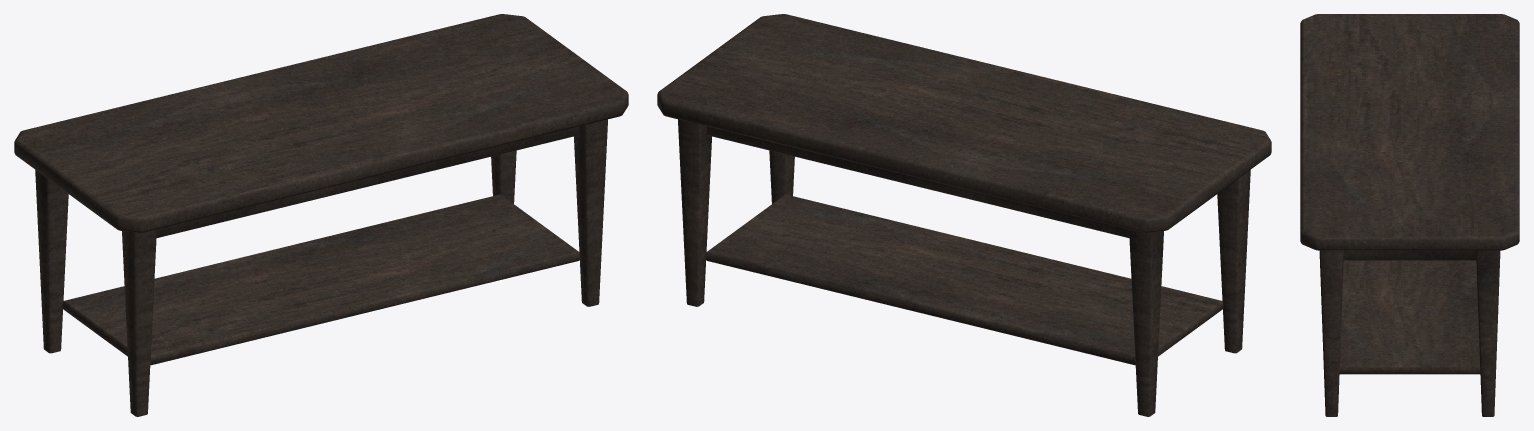
File: table_small_1.glb
3 views of the same model, side by side, from view 1: azimuth 30°, elevation 25°; view 2: azimuth 150°, elevation 25°; view 3: azimuth 270°, elevation 25° (orthographic). The views are drawn at different scales.
Visible parts, largest first — view 1: table_small_1; view 2: table_small_1; view 3: table_small_1.
Boxes of the visible parts, x1,y1,x2,y2 form: table_small_1: (14,14,628,416); table_small_1: (657,14,1271,416); table_small_1: (1300,14,1519,416).
Size of the model in its own units: 1.7 by 0.67 by 0.7.
1 material, 1 textured.
